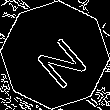N_NW: (23, 23, 87, 87)
